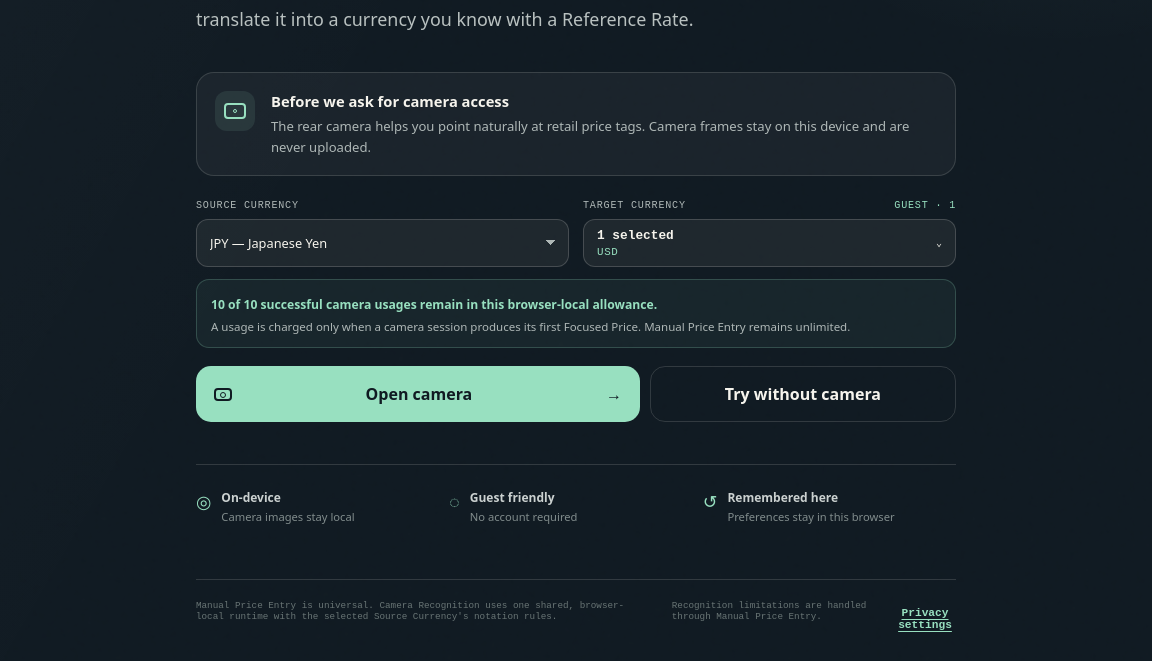
Scenario: Guest camera journey › stops an expired conversion with a reconnect action while recognition continues
(page scrolled)
Click the button "Try without camera".
click(803, 394)  # box [650,366,956,422]
(page scrolled)
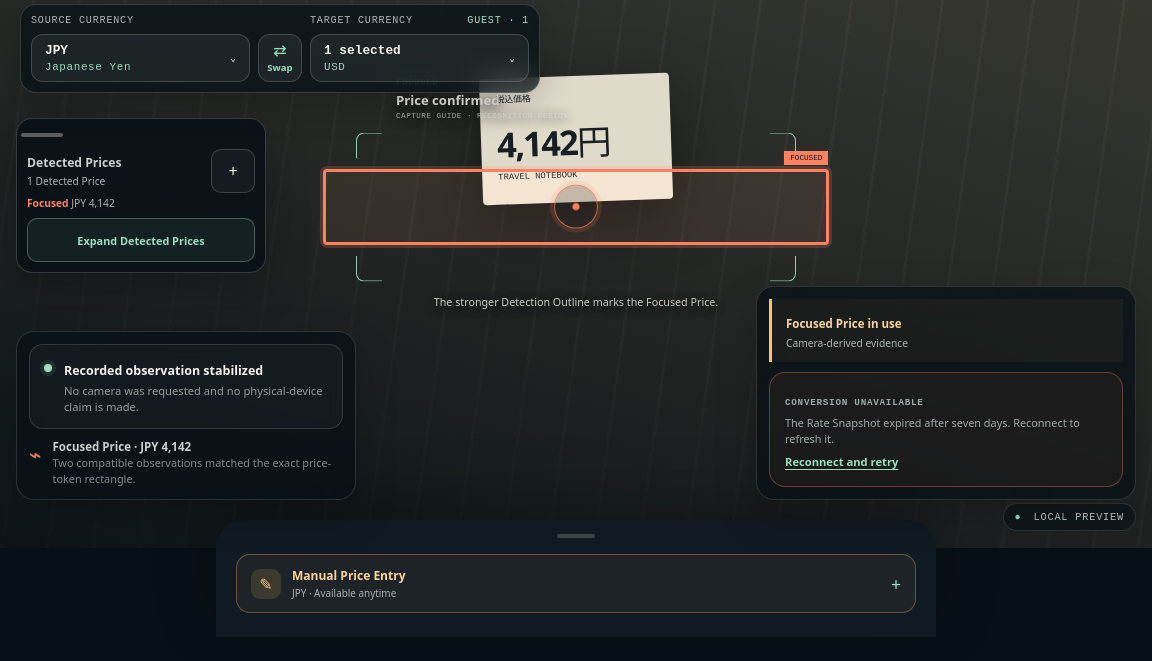
Now the text "Focused Price · JPY 4,142" is shown, box [52,439,191,454]
Now the message that starts with "Conversion unavailable" shows "Rate Snapshot expired", box [785,416,1080,446]
Now the button "Reconnect and retry" is shown, box [785,454,898,469]
